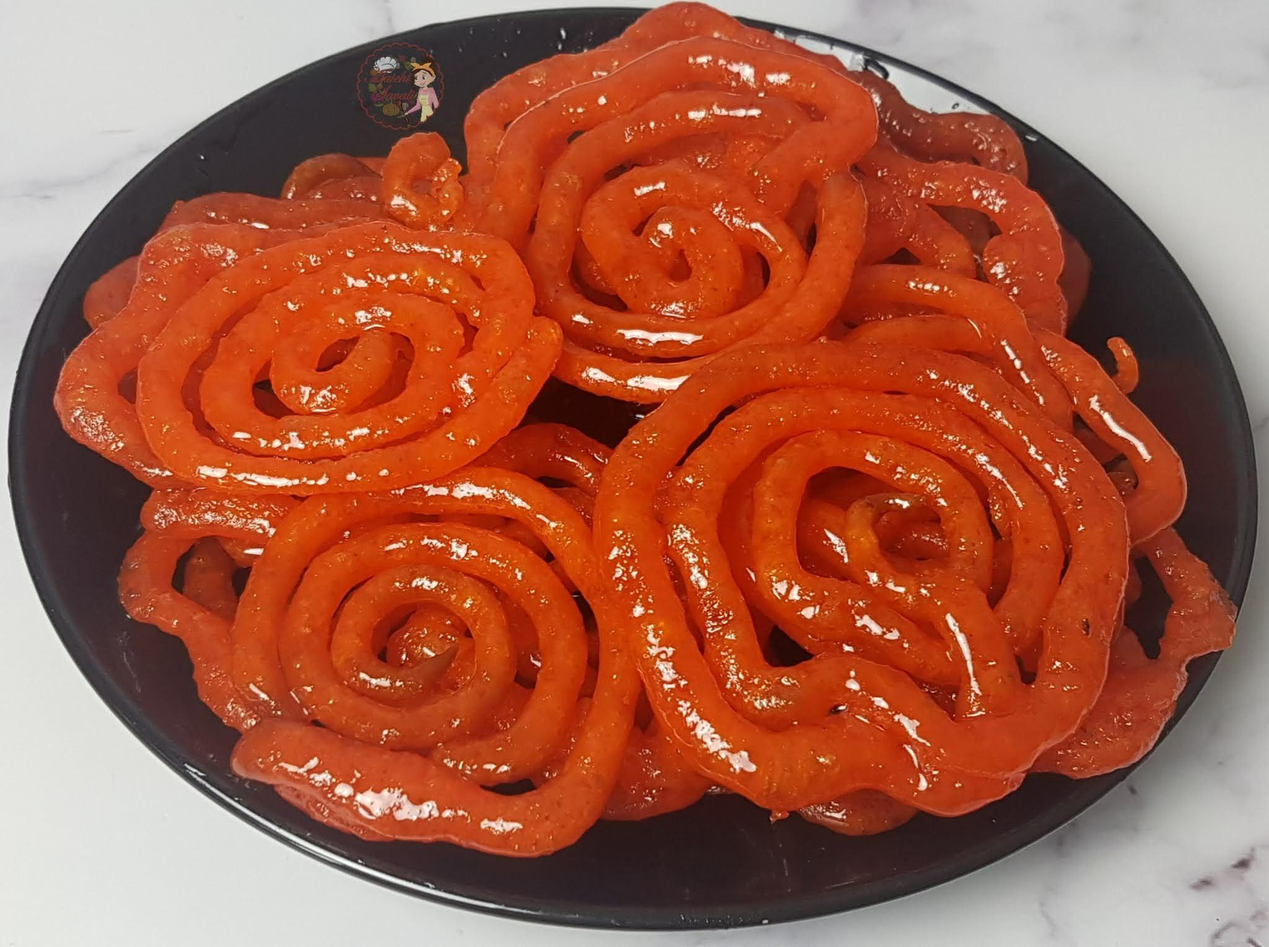Jalebi: (53, 5, 1238, 858)
